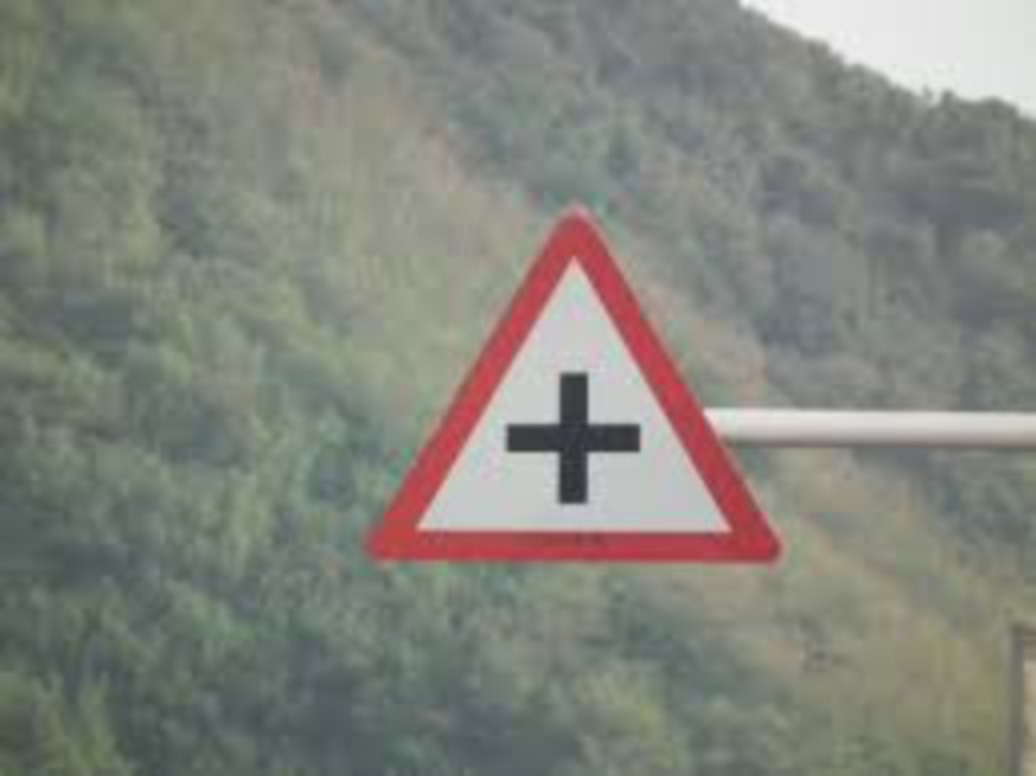Fork_road: (367, 203, 787, 571)
